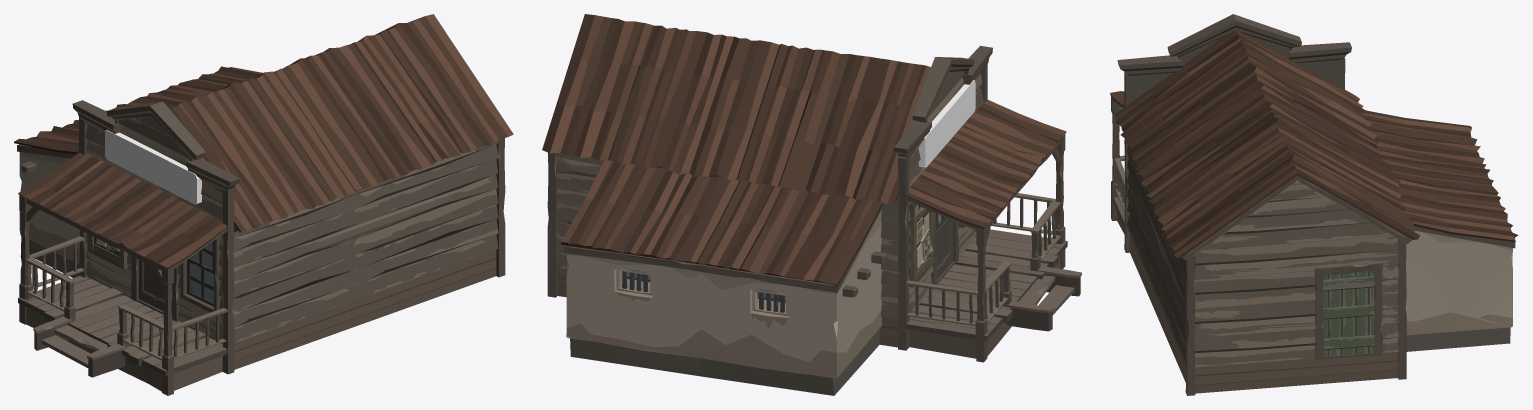
Rendered from Jail.glb.
3 renders of one model, left to right at view 1: azimuth 30°, elevation 25°; view 2: azimuth 150°, elevation 25°; view 3: azimuth 270°, elevation 25°, orthographic. The views are drawn at different scales.
Visible parts, largest first — view 1: Jail, SM_Bld_Sign_18, SM_Bld_DeckSteps_01__4_, Door, SM_Building_Jail_Window_01, SM_Prop_MessageBoard__3_; view 2: Jail, SM_Bld_DeckSteps_01__4_, SM_Bld_Sign_18, SM_Prop_MessageBoard__3_, Door; view 3: Jail, SM_Bld_Jail_BackDoor_01.
Boxes of the visible parts, <box> form: Jail: <box>14,14,513,395</box>; SM_Bld_Sign_18: <box>105,130,201,204</box>; SM_Bld_DeckSteps_01__4_: <box>33,316,126,377</box>; Door: <box>138,260,171,311</box>; SM_Building_Jail_Window_01: <box>190,242,213,302</box>; SM_Prop_MessageBoard__3_: <box>87,234,126,268</box>; Jail: <box>542,14,1067,395</box>; SM_Bld_DeckSteps_01__4_: <box>1006,265,1081,331</box>; SM_Bld_Sign_18: <box>918,80,975,167</box>; SM_Prop_MessageBoard__3_: <box>910,207,933,281</box>; Door: <box>936,213,953,279</box>; Jail: <box>1110,14,1518,395</box>; SM_Bld_Jail_BackDoor_01: <box>1322,271,1374,356</box>.
Size of the model in its own units: 11.45 by 5.79 by 9.51.
Materials: 5 (4 with a texture image).
